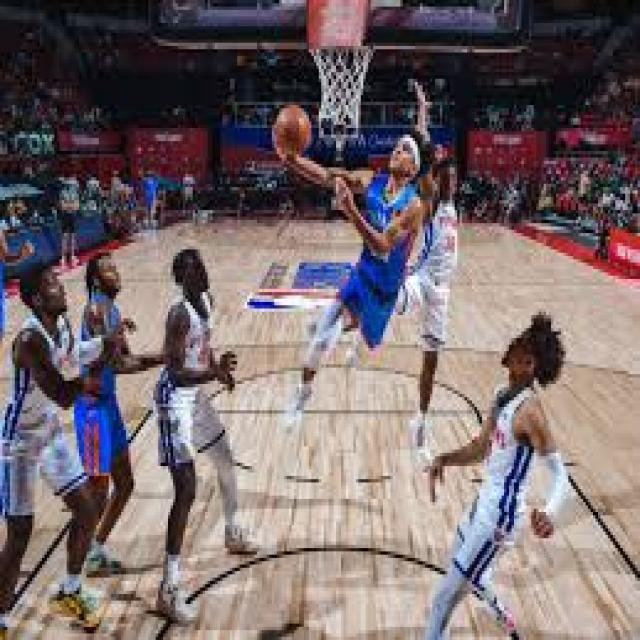rim: (274, 105, 314, 154)
